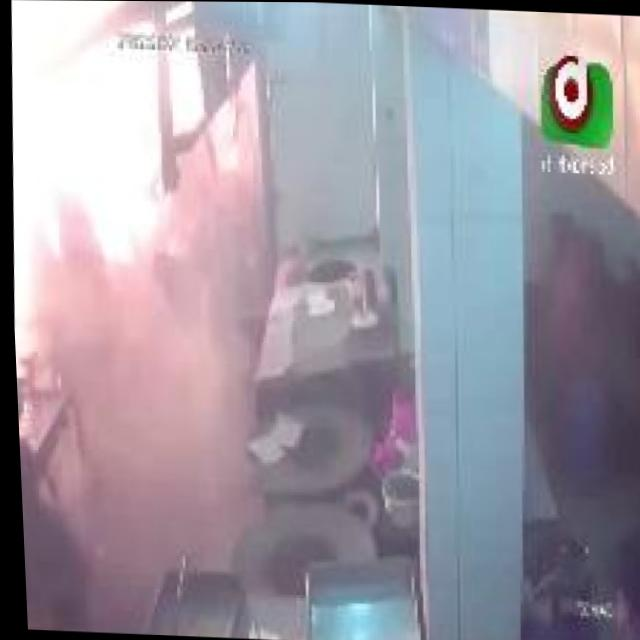fire: (0, 0, 207, 376)
